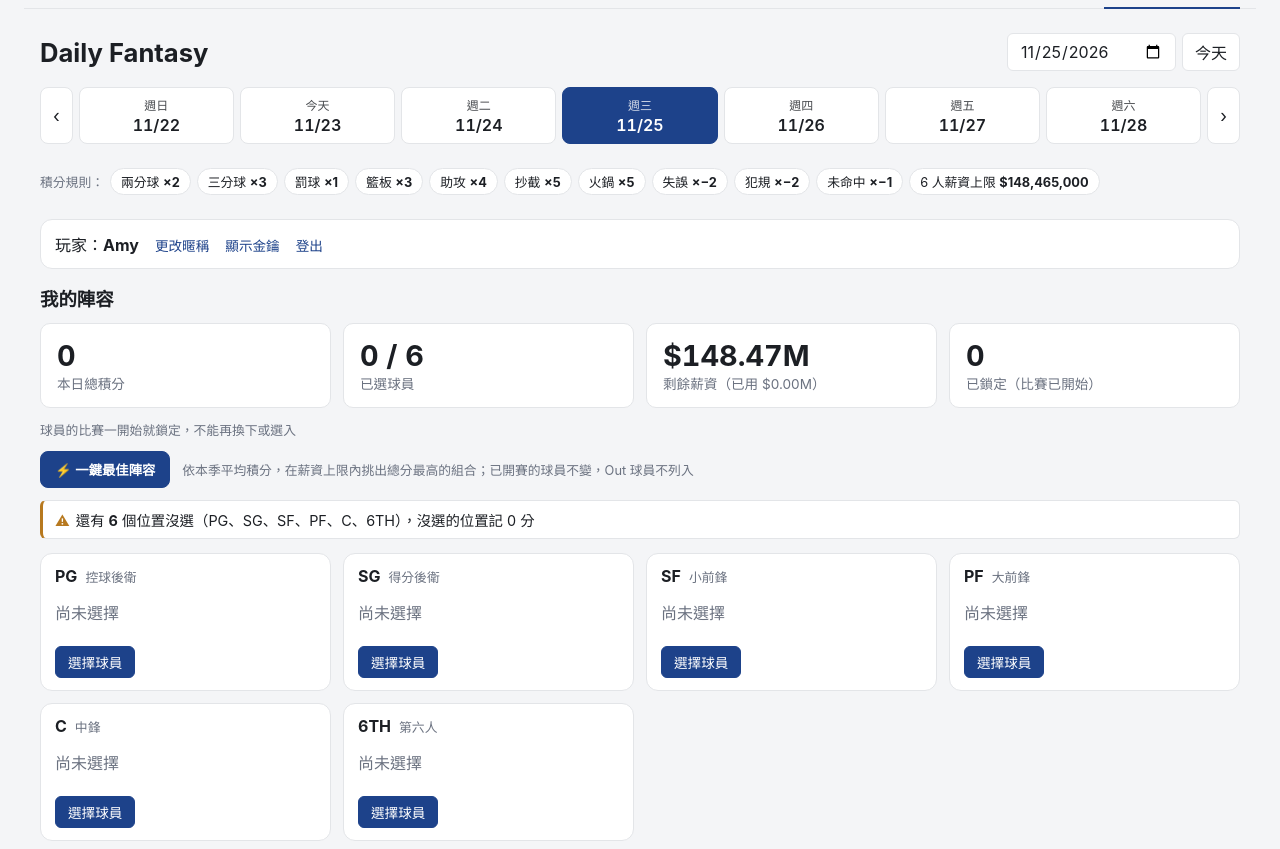
Test: picking a PG lists only eligible, unlocked players and saves with my token
Click the button "選擇球員" below "控球後衛": (95, 662) x1=55 y1=646 x2=135 y2=678
(page scrolled)
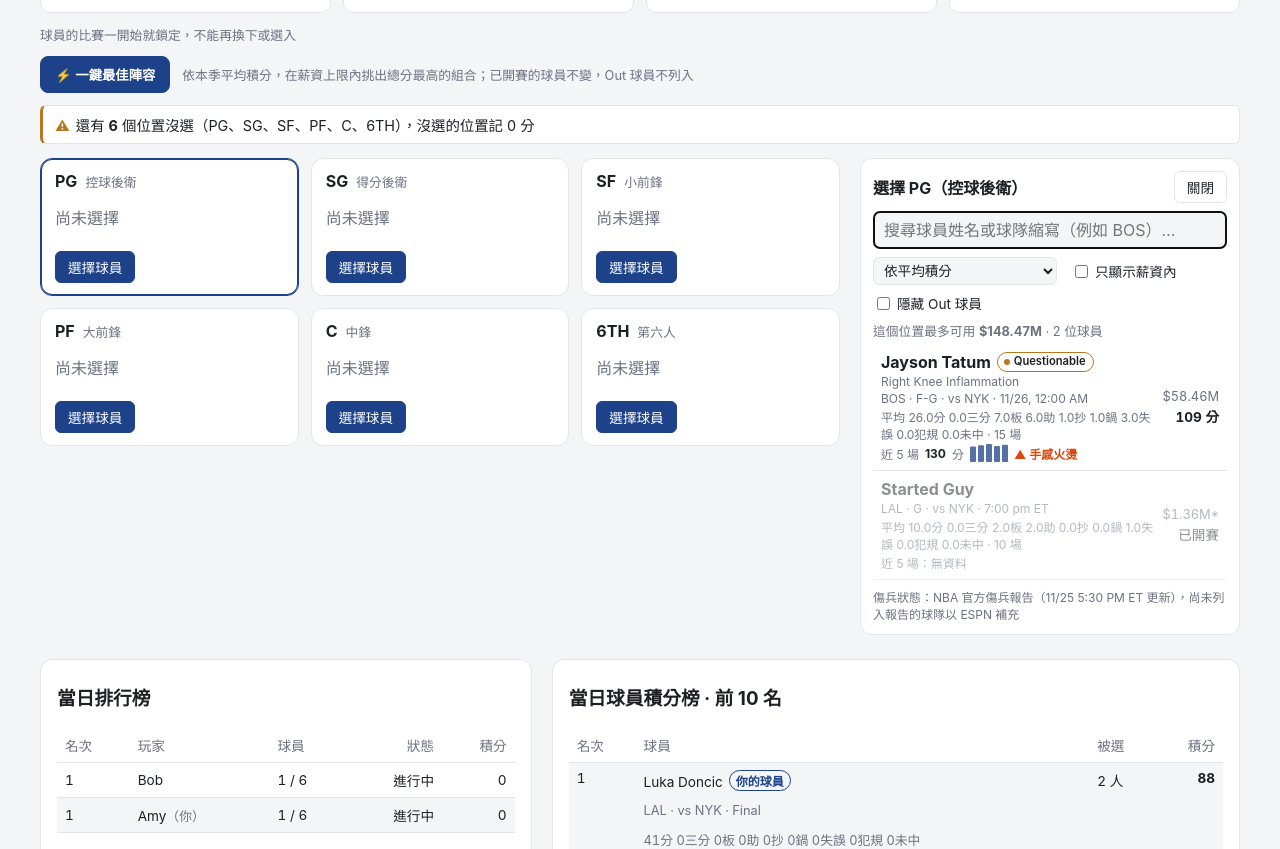
Expected: the heading "選擇 PG（控球後衛）" is shown, x1=873 y1=175 x2=1027 y2=199
Expected: the button "Started Guy" is disabled, x1=873 y1=471 x2=1227 y2=580
Click the button "Jayson Tatum": (1050, 408) x1=873 y1=344 x2=1227 y2=471
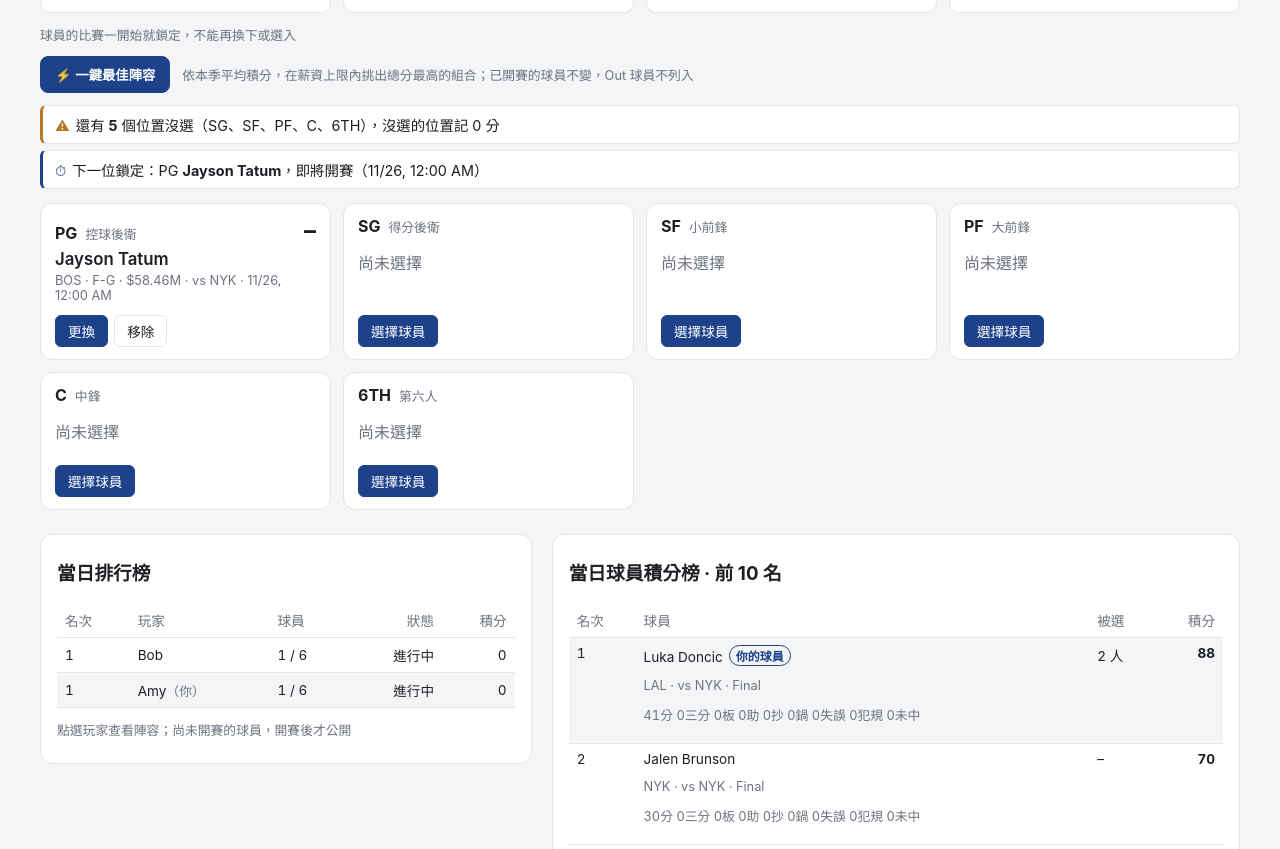
Expected: the text "尚未選擇" is shown 5 times, x1=358 y1=253 x2=422 y2=273; x1=661 y1=253 x2=725 y2=273; x1=964 y1=253 x2=1028 y2=273; x1=55 y1=422 x2=119 y2=442; x1=358 y1=422 x2=422 y2=442
Expected: the heading "選擇 PG（控球後衛）" is gone
Expected: the text "Jayson Tatum" below "控球後衛" is shown, x1=55 y1=249 x2=169 y2=269
